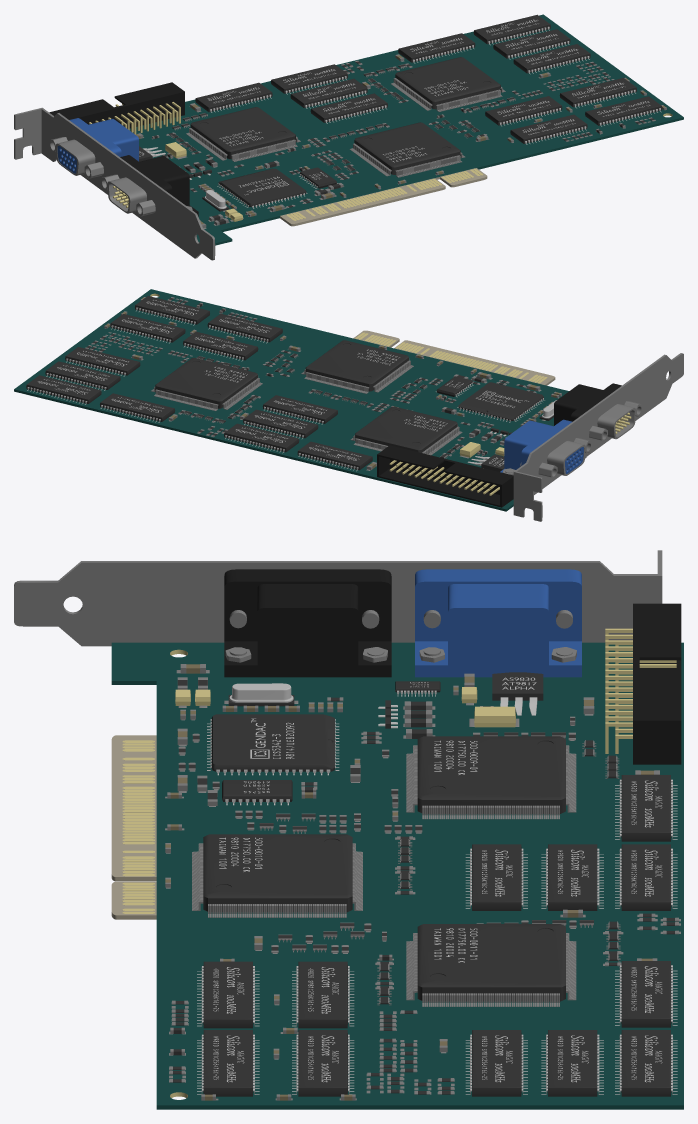
File: voodoo.glb
The picture shows the model from 3 angles, top to bottom: view 1: azimuth 30°, elevation 25°; view 2: azimuth 150°, elevation 25°; view 3: azimuth 270°, elevation 25°; orthographic projection. The views are drawn at different scales.
Parts seen in each view (by area): view 1: Cube.002_Cube.010_Cube.002_Cube.000; view 2: Cube.002_Cube.010_Cube.002_Cube.000; view 3: Cube.002_Cube.010_Cube.002_Cube.000.
Boxes of the visible parts, left/top/right/bottom form: Cube.002_Cube.010_Cube.002_Cube.000: left=14, top=14, right=683, bottom=260; Cube.002_Cube.010_Cube.002_Cube.000: left=14, top=289, right=683, bottom=521; Cube.002_Cube.010_Cube.002_Cube.000: left=14, top=550, right=683, bottom=1109.
Size of the model in its own units: 9.58 by 0.8809 by 5.53.
Materials: 1 (1 with a texture image).
